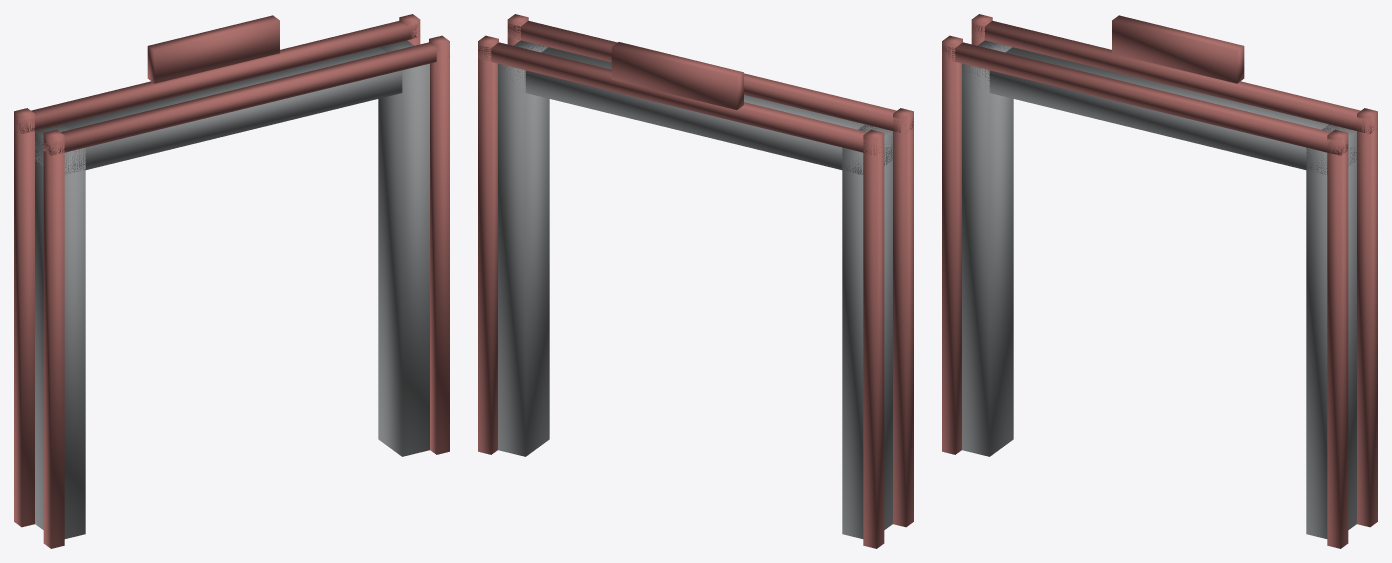
File: doorway_emergency_exit_w182_h200_d24.glb
3 renders of one model, left to right at view 1: azimuth 30°, elevation 25°; view 2: azimuth 150°, elevation 25°; view 3: azimuth 330°, elevation 25°, orthographic.
Visible parts, largest first — view 1: world; view 2: world; view 3: world.
Boxes of the visible parts, box(x1,y1,x2,y2) form: world: box(14, 14, 449, 548); world: box(478, 14, 913, 548); world: box(942, 14, 1377, 548).
Size of the model in its own units: 2.29 by 2.42 by 0.4003.
